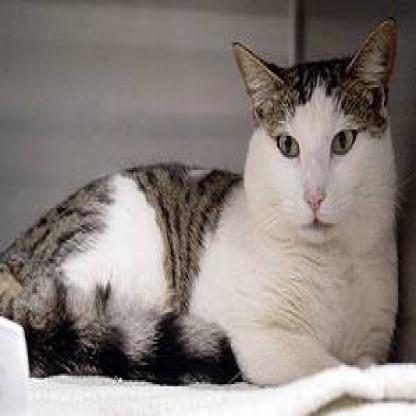cat: (36, 37, 396, 363)
